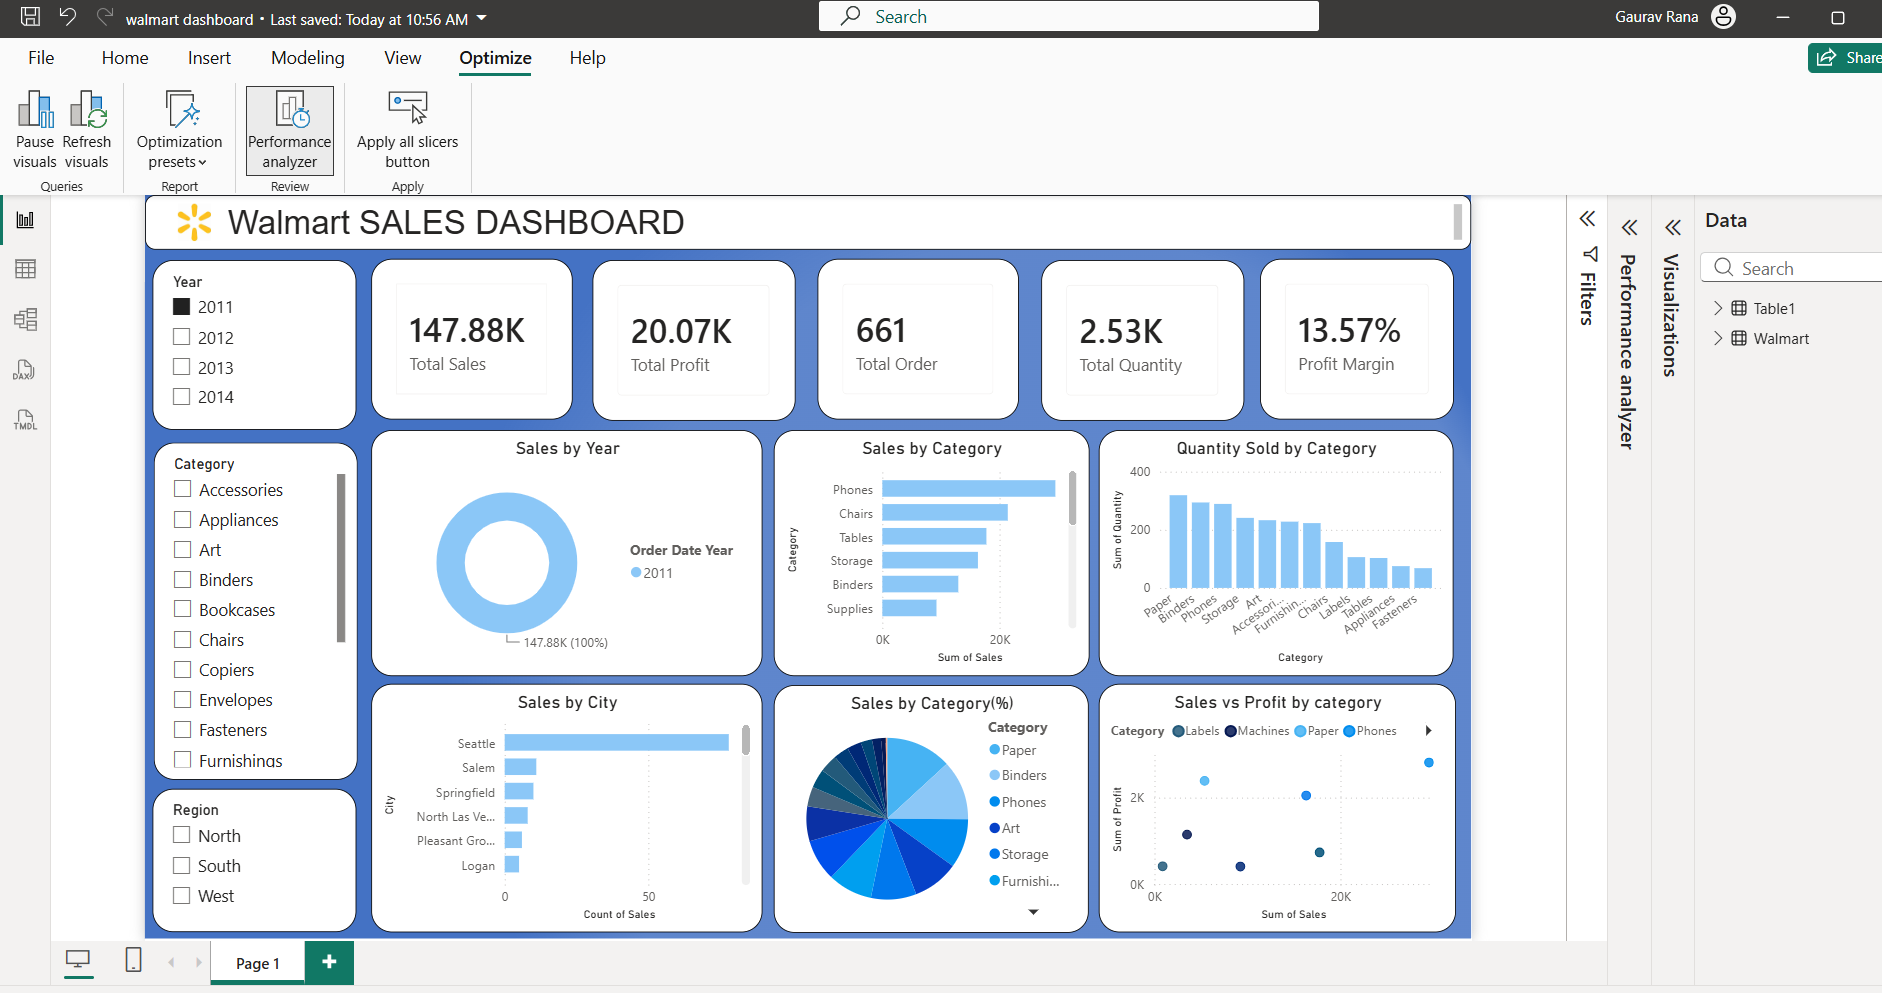

What the dashboard file says about the page in this screenshot:
{"tool":"powerbi","page":{"name":"Page 1","canvas":[1280,720],"ordinal":0},"visuals":[{"type":"slicer","fields":{"Values":["Walmart.Order Date.Variation.Date Hierarchy.Year"]},"box":[7.2,62.7,196.6,164.1],"z":0},{"type":"slicer","fields":{"Values":["Walmart.Category"]},"box":[8.4,238.9,196.6,325.7],"z":1000},{"type":"slicer","fields":{"Values":["Table1.Region"]},"box":[7.2,573.1,196.6,138.7],"z":2000},{"type":"cardVisual","title":"Total Sales","fields":{"Data":["Walmart.Total Sales"]},"box":[218.9,61.1,194.4,155.3],"z":3000},{"type":"cardVisual","fields":{"Data":["CountNonNull(Walmart.Order ID)"]},"box":[649.3,61.1,194.4,155.3],"z":4000},{"type":"cardVisual","fields":{"Data":["Sum(Walmart.Quantity)"]},"box":[864.5,62.4,195.7,155.3],"z":5000},{"type":"cardVisual","fields":{"Data":["Walmart.Profit Margin %"]},"box":[1076.1,61.1,187.1,155.3],"z":6000},{"type":"cardVisual","fields":{"Data":["Walmart.Total Profit"]},"box":[431.7,62.4,195.7,155.3],"z":7000},{"type":"scatterChart","title":"Sales vs Profit by category","fields":{"X":["Sum(Walmart.Sales)"],"Y":["Sum(Walmart.Profit)"],"Series":["Walmart.Category"]},"box":[920.5,471.7,345,240.1],"z":8000},{"type":"donutChart","title":"Sales by Year","fields":{"Category":["Walmart.Order Date.Variation.Date Hierarchy.Year"],"Y":["Sum(Walmart.Sales)"]},"box":[218.9,226.2,377.9,237.2],"z":9000},{"type":"clusteredBarChart","title":"Sales by Category","fields":{"Category":["Walmart.Category"],"Y":["Sum(Walmart.Sales)"]},"box":[606.5,226.2,304.5,237.2],"z":10000},{"type":"clusteredColumnChart","title":"Quantity Sold by Category","fields":{"Y":["Sum(Walmart.Quantity)"],"Category":["Walmart.Category"]},"box":[920.8,226.2,342.4,237.2],"z":11000},{"type":"clusteredBarChart","title":"Sales by City","fields":{"Y":["Count(Walmart.Sales)"],"Category":["Walmart.City"]},"box":[218.4,471.7,377.6,240.1],"z":12000},{"type":"pieChart","title":"Sales by Category(%)","fields":{"Category":["Walmart.Category"],"Y":["CountNonNull(Walmart.Sales)"]},"box":[606.8,472.9,304,238.9],"z":13000},{"type":"textbox","box":[0,0,1280,53.1],"z":14000},{"type":"image","box":[20.5,8.4,54.3,36.2],"z":15000}]}

Visuals, with their boxes on the page's 1280x720 design canvas (x1, y1, x2, y2). These are canvas units, not pixel positions in the 1882x993 screenshot, which may show the page scaled, cropped or inside an application window:
slicer - Walmart.Order Date.Variation.Date Hierarchy.Year: pyautogui.locateOnScreen(7, 63, 204, 227)
slicer - Walmart.Category: pyautogui.locateOnScreen(8, 239, 205, 565)
slicer - Table1.Region: pyautogui.locateOnScreen(7, 573, 204, 712)
"Total Sales" cardVisual: pyautogui.locateOnScreen(219, 61, 413, 216)
cardVisual - CountNonNull(Walmart.Order ID): pyautogui.locateOnScreen(649, 61, 844, 216)
cardVisual - Sum(Walmart.Quantity): pyautogui.locateOnScreen(864, 62, 1060, 218)
cardVisual - Walmart.Profit Margin %: pyautogui.locateOnScreen(1076, 61, 1263, 216)
cardVisual - Walmart.Total Profit: pyautogui.locateOnScreen(432, 62, 627, 218)
"Sales vs Profit by category" scatterChart: pyautogui.locateOnScreen(920, 472, 1266, 712)
"Sales by Year" donutChart: pyautogui.locateOnScreen(219, 226, 597, 463)
"Sales by Category" clusteredBarChart: pyautogui.locateOnScreen(606, 226, 911, 463)
"Quantity Sold by Category" clusteredColumnChart: pyautogui.locateOnScreen(921, 226, 1263, 463)
"Sales by City" clusteredBarChart: pyautogui.locateOnScreen(218, 472, 596, 712)
"Sales by Category(%)" pieChart: pyautogui.locateOnScreen(607, 473, 911, 712)
textbox: pyautogui.locateOnScreen(0, 0, 1280, 53)
image: pyautogui.locateOnScreen(20, 8, 75, 45)
